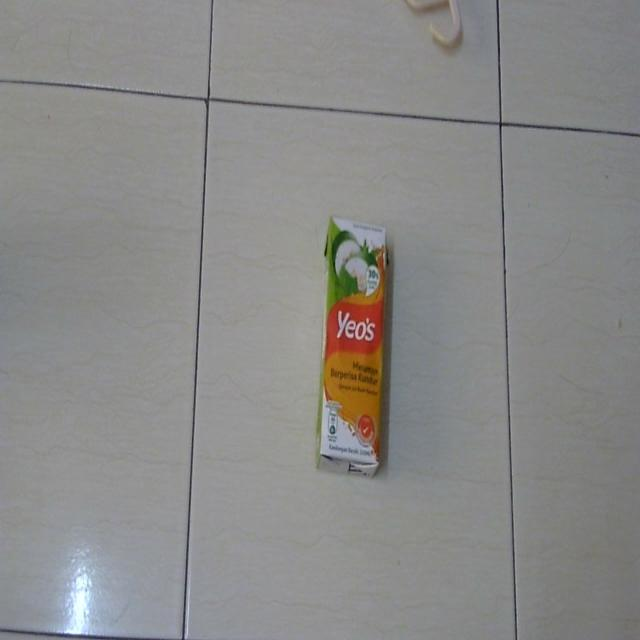plastic_laydown_90rotation: (306, 208, 404, 505)
